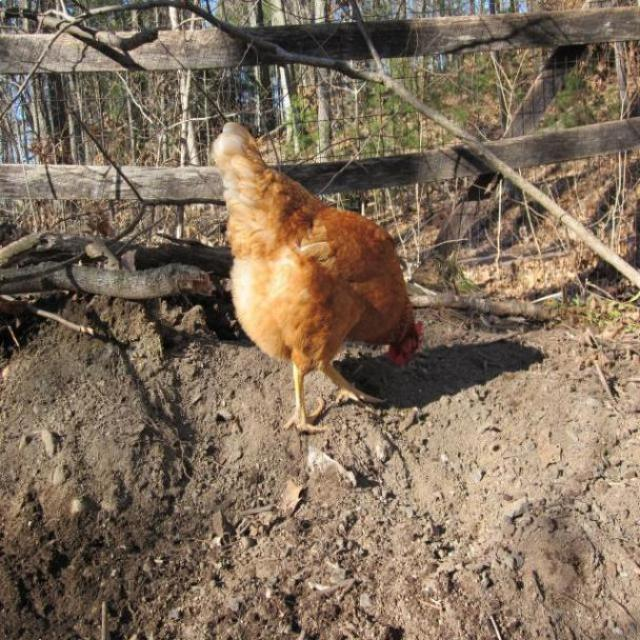Chicken: (213, 121, 419, 427)
